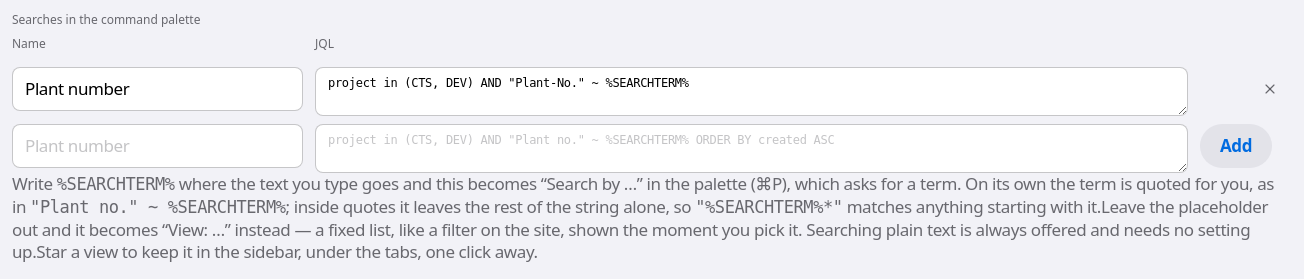
Test: one already written › puts its JQL back when an empty one is refused
The width and height of the screenshot is (1304, 279).
Clear the text box named "JQL the Plant number search runs". click: [752, 92]
box: x1=315 y1=67 x2=1188 y2=116
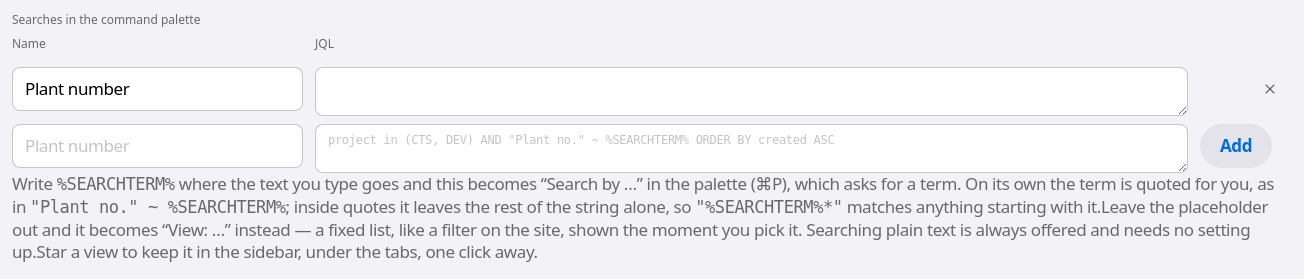
Leave the text box named "JQL the Plant number search runs", box x1=315 y1=67 x2=1188 y2=116
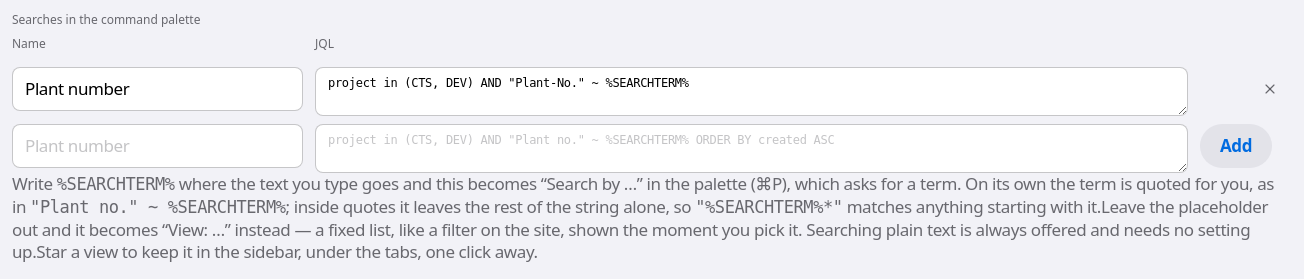
Result: the text box named "JQL the Plant number search runs" holds "project in (CTS, DEV) AND \"Plant-No.\" ~ %SEARCHTERM%" at x1=315 y1=67 x2=1188 y2=116
